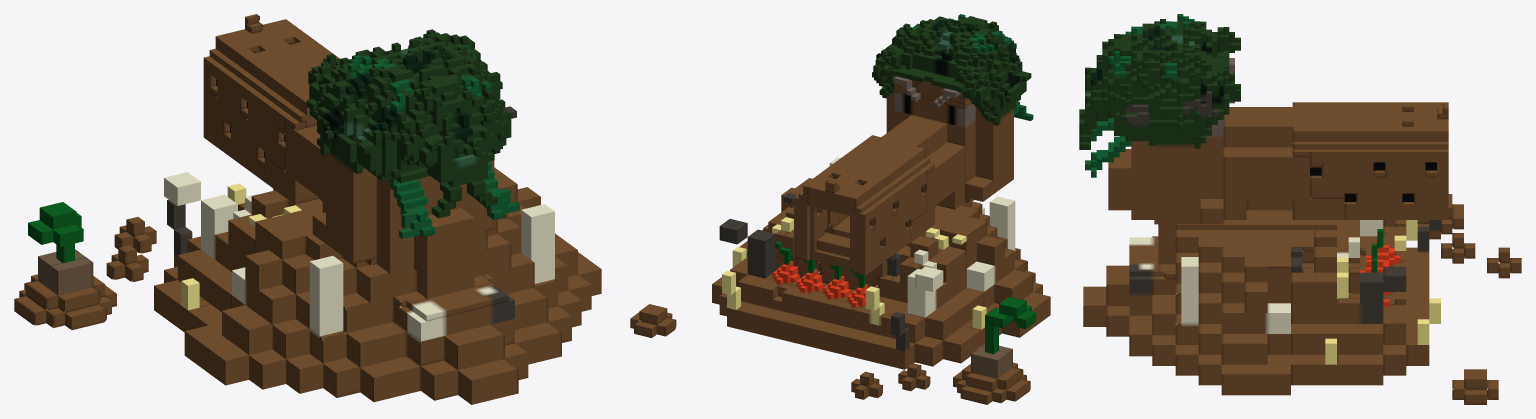
File: Animacion.dae
The picture shows the model from 3 angles, left to right: view 1: azimuth 30°, elevation 25°; view 2: azimuth 150°, elevation 25°; view 3: azimuth 270°, elevation 25°; orthographic projection. The views are drawn at different scales.
Parts seen in each view (by area): view 1: Archivo con toda la info-local, Archivo con toda la info (2)-local; view 2: Archivo con toda la info-local, Archivo con toda la info (2)-local; view 3: Archivo con toda la info-local, Archivo con toda la info (2)-local.
Part boxes in pixels (x1,y1,x2,y2): Archivo con toda la info-local: [14, 167, 601, 404]; Archivo con toda la info (2)-local: [203, 14, 519, 278]; Archivo con toda la info-local: [630, 157, 1050, 404]; Archivo con toda la info (2)-local: [794, 14, 1033, 275]; Archivo con toda la info-local: [1083, 194, 1521, 404]; Archivo con toda la info (2)-local: [1079, 14, 1448, 224].
Size of the model in its own units: 82 by 52 by 76.67.
2 materials, 2 textured.
